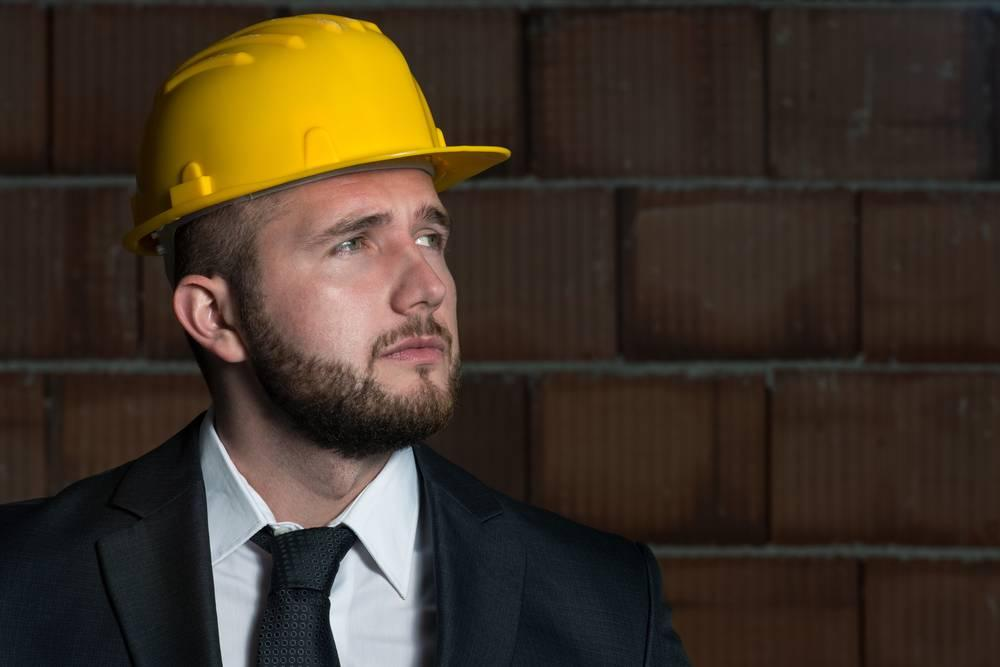helmet: (124, 12, 518, 257)
